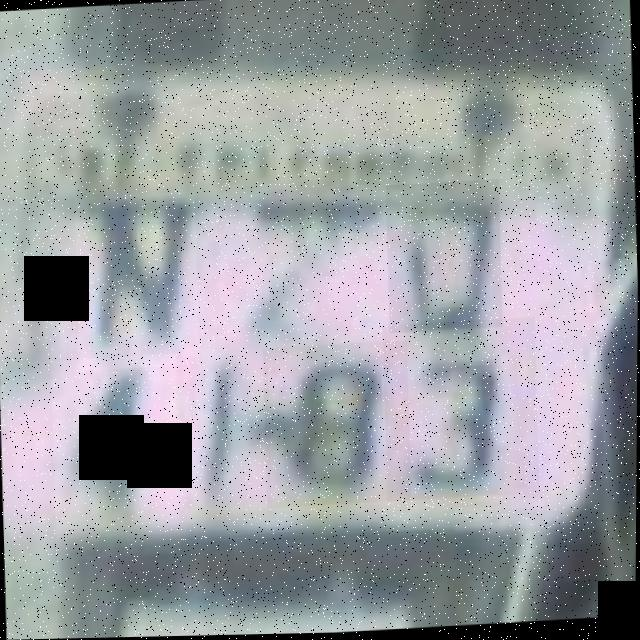1: (179, 353, 272, 511)
3: (382, 319, 541, 503)
4: (50, 354, 182, 561)
8: (262, 342, 413, 510)
D: (385, 181, 503, 335)
N: (73, 192, 200, 371)
Z: (222, 200, 360, 352)
